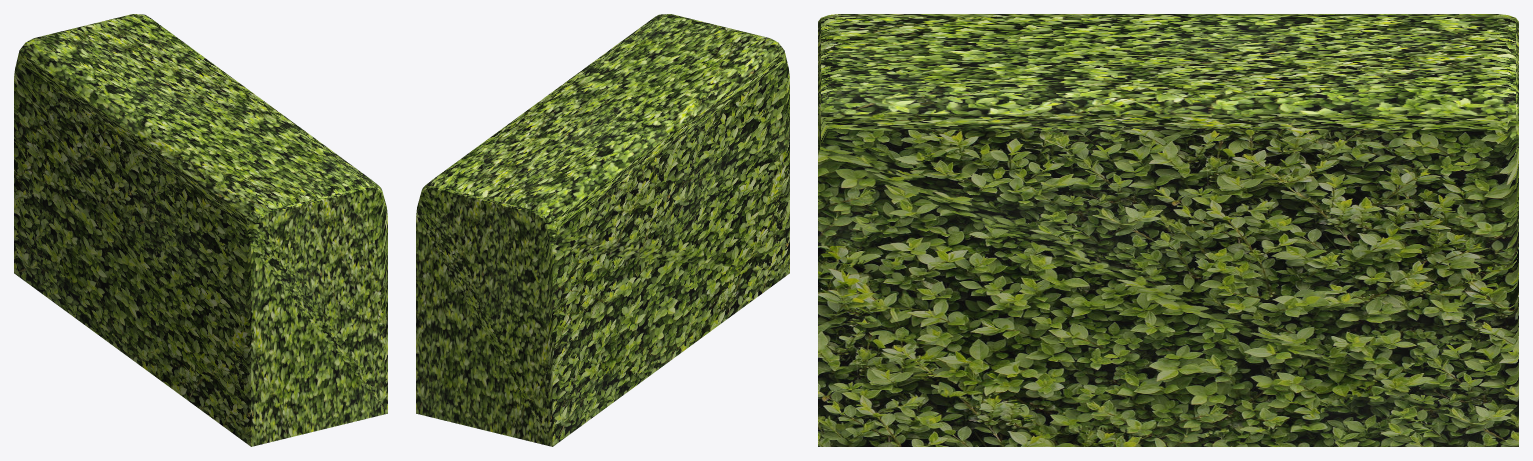
The model's file is Hedge.fbx.
The picture shows the model from 3 angles, left to right: view 1: azimuth 30°, elevation 25°; view 2: azimuth 150°, elevation 25°; view 3: azimuth 270°, elevation 25°; orthographic projection. The views are drawn at different scales.
Visible parts, largest first — view 1: Hedge; view 2: Hedge; view 3: Hedge.
Boxes of the visible parts, left/top/right/bottom form: Hedge: left=14, top=14, right=387, bottom=446; Hedge: left=416, top=14, right=789, bottom=446; Hedge: left=818, top=14, right=1518, bottom=446.
Bounding box in the file's own units: 200 × 327 × 601.
